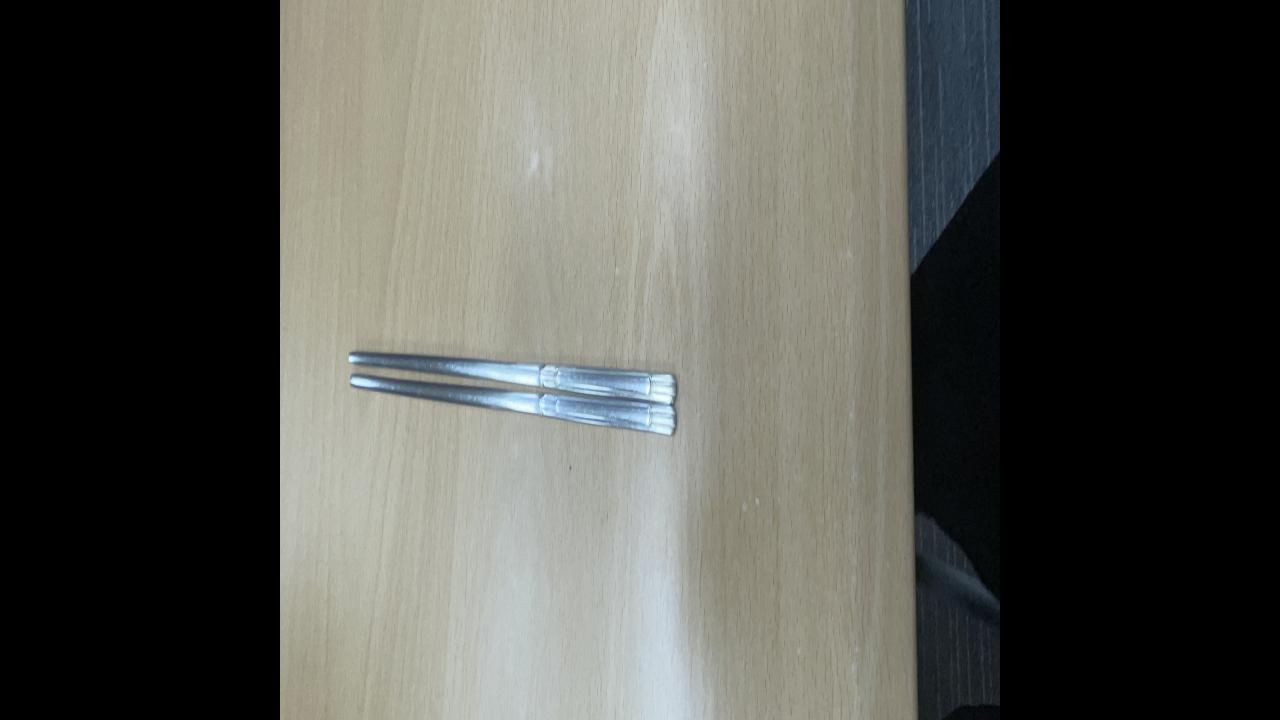chopstick: (345, 334, 680, 445)
